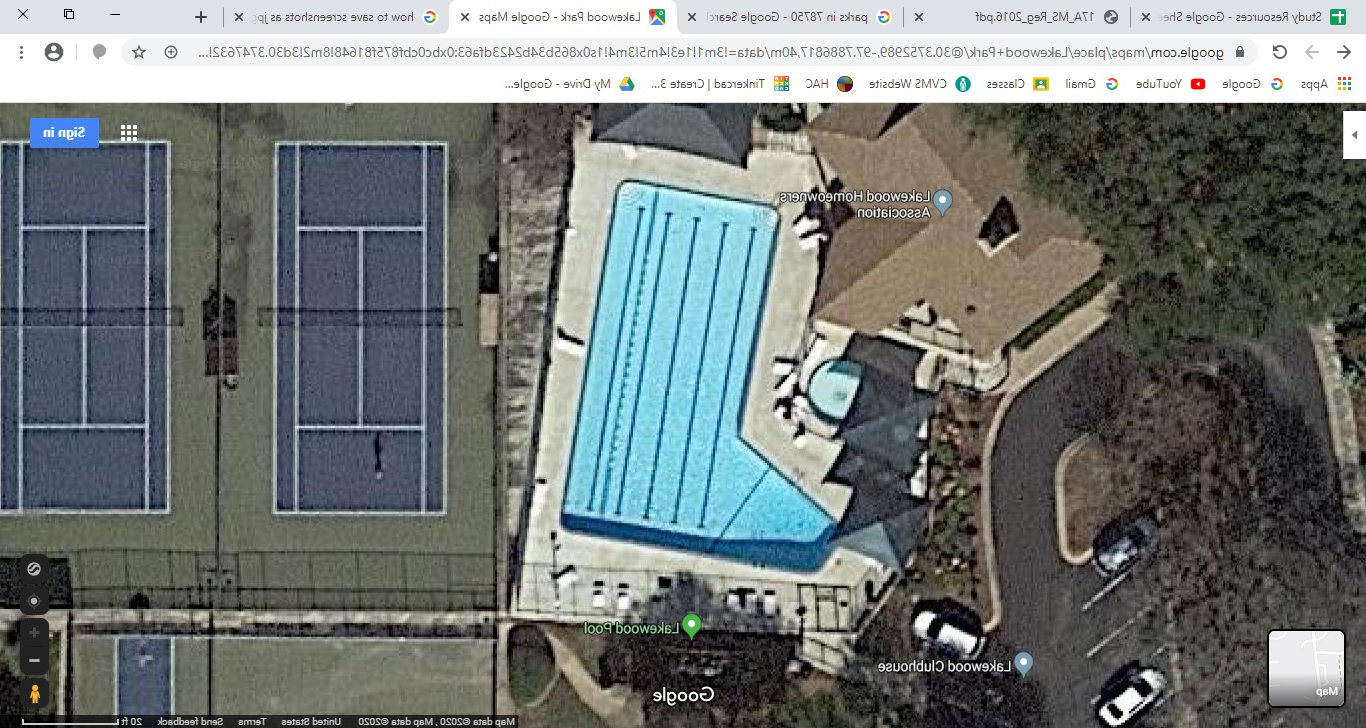pool: (561, 149, 874, 613)
tennis: (247, 114, 476, 531), (12, 124, 185, 525)
